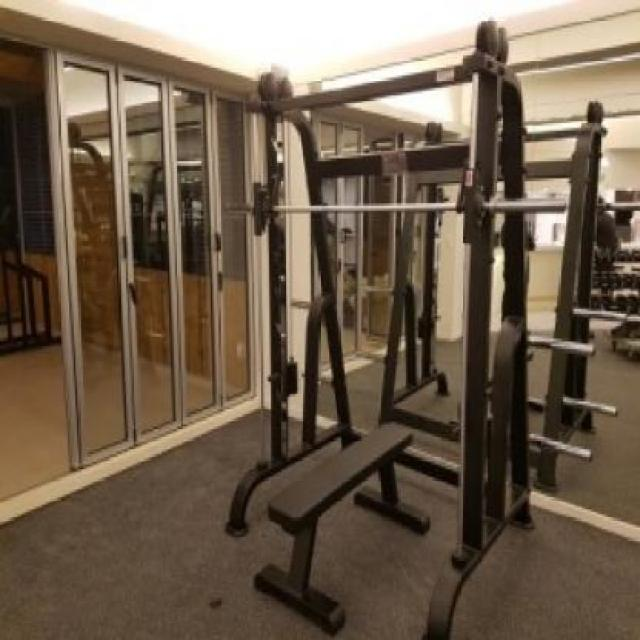smith machine: (225, 20, 537, 640)
